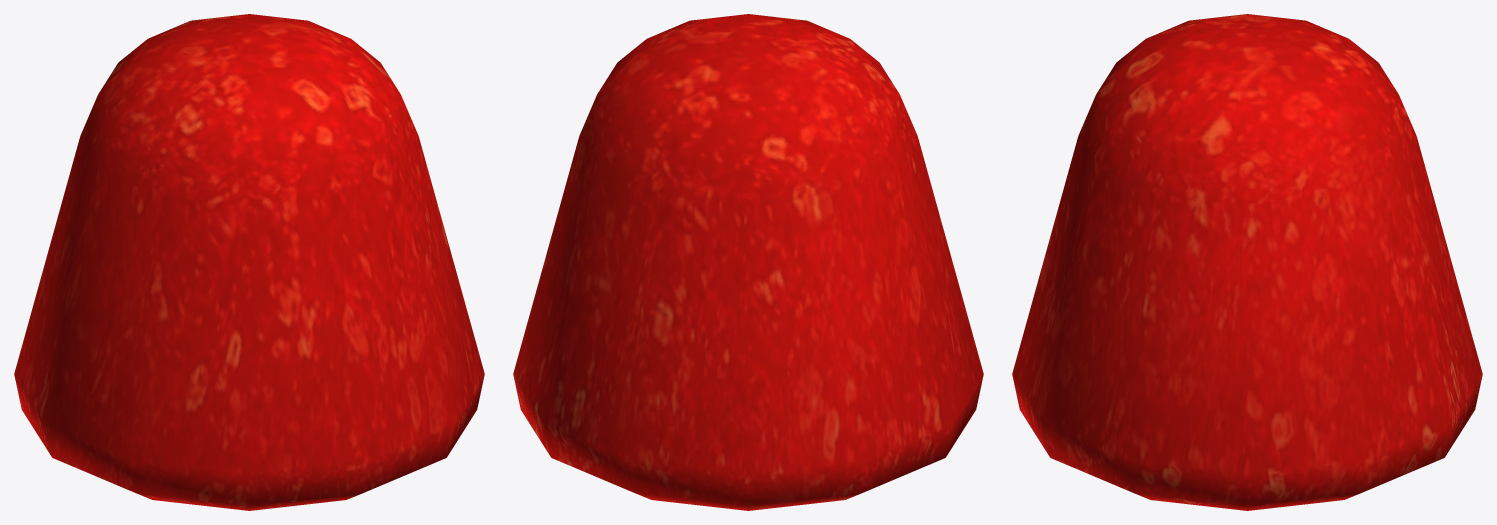
Rendered from CHP_MOD_Marmalade_red.fbx.
3 views of the same model, side by side, from view 1: azimuth 30°, elevation 25°; view 2: azimuth 150°, elevation 25°; view 3: azimuth 270°, elevation 25° (orthographic).
Visible parts, largest first — view 1: CHP_MOD_Marmalade_red; view 2: CHP_MOD_Marmalade_red; view 3: CHP_MOD_Marmalade_red.
Part boxes in pixels (box(x1,y1,x2,y2)): CHP_MOD_Marmalade_red: box(14, 14, 484, 510); CHP_MOD_Marmalade_red: box(513, 14, 983, 510); CHP_MOD_Marmalade_red: box(1012, 14, 1482, 510).
Size of the model in its own units: 0.5048 by 0.4654 by 0.5048.
